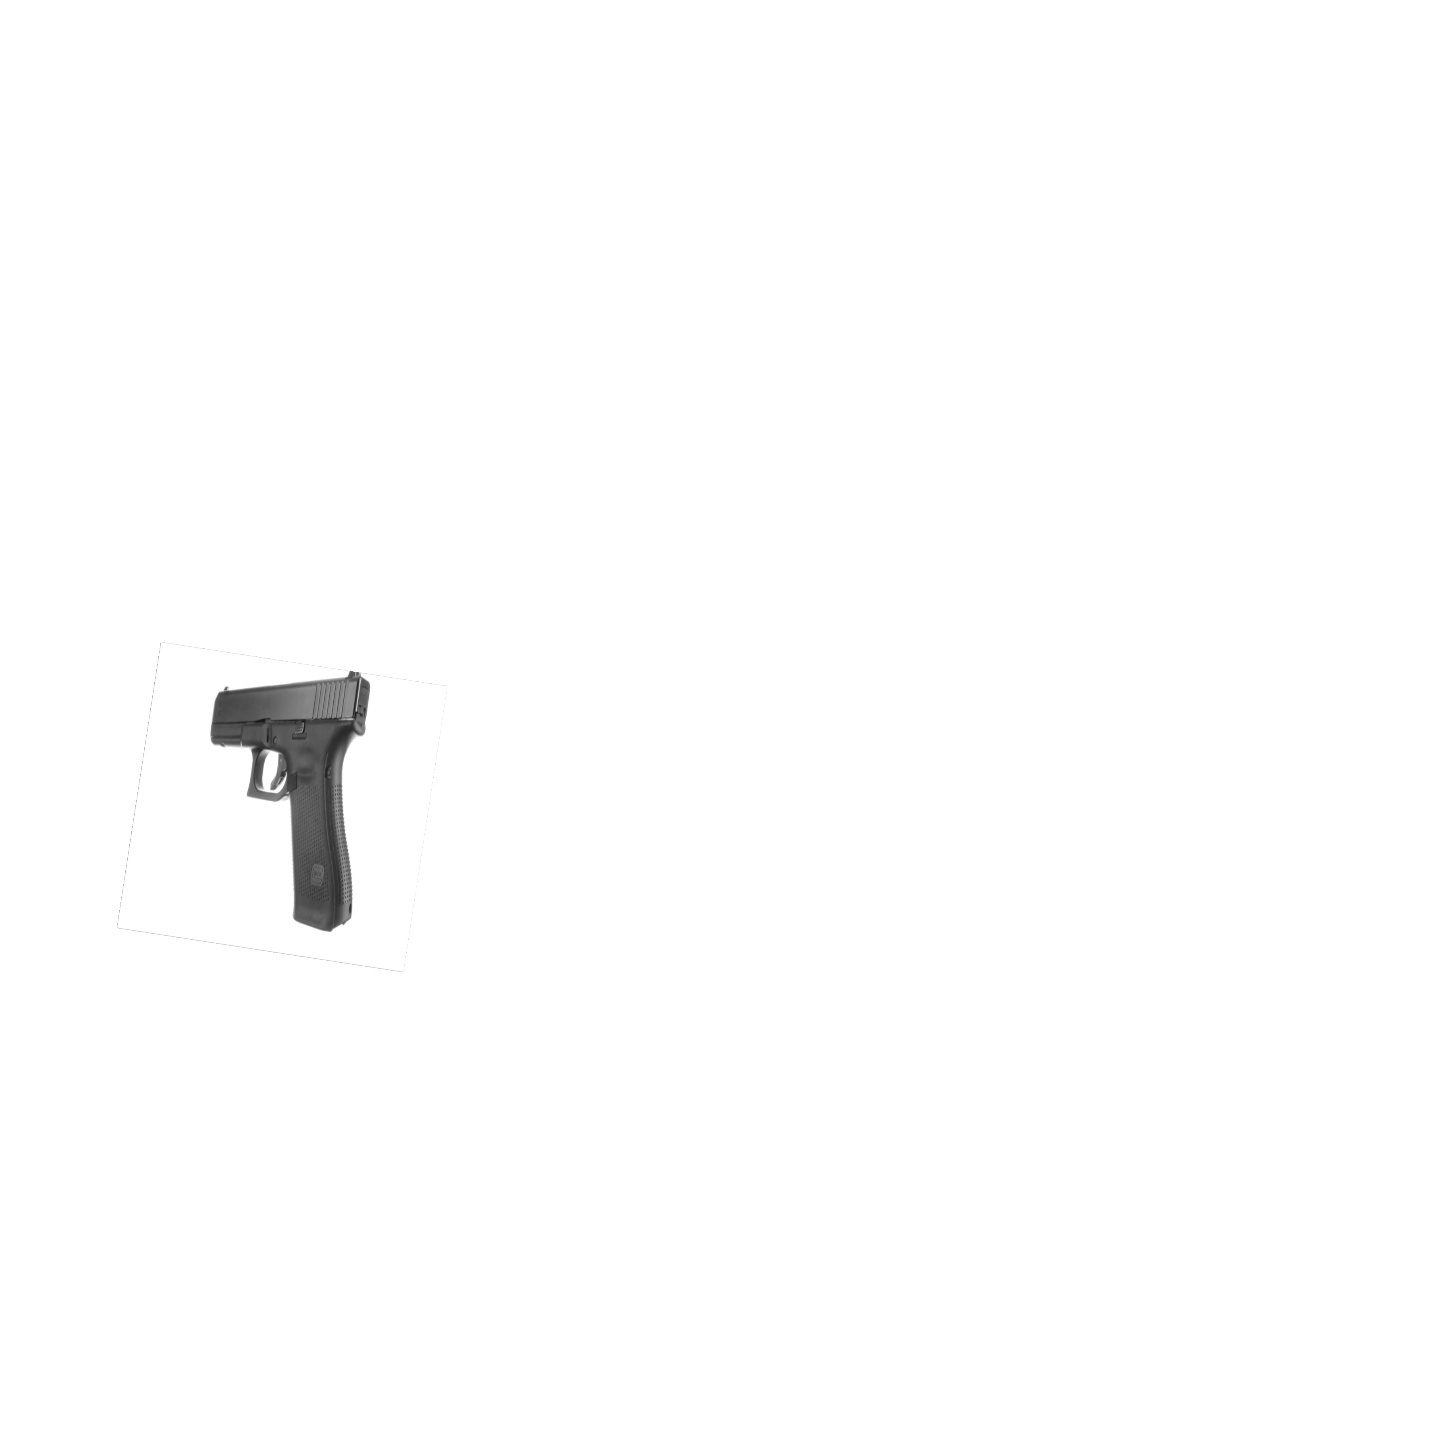gun: (204, 666, 382, 938)
